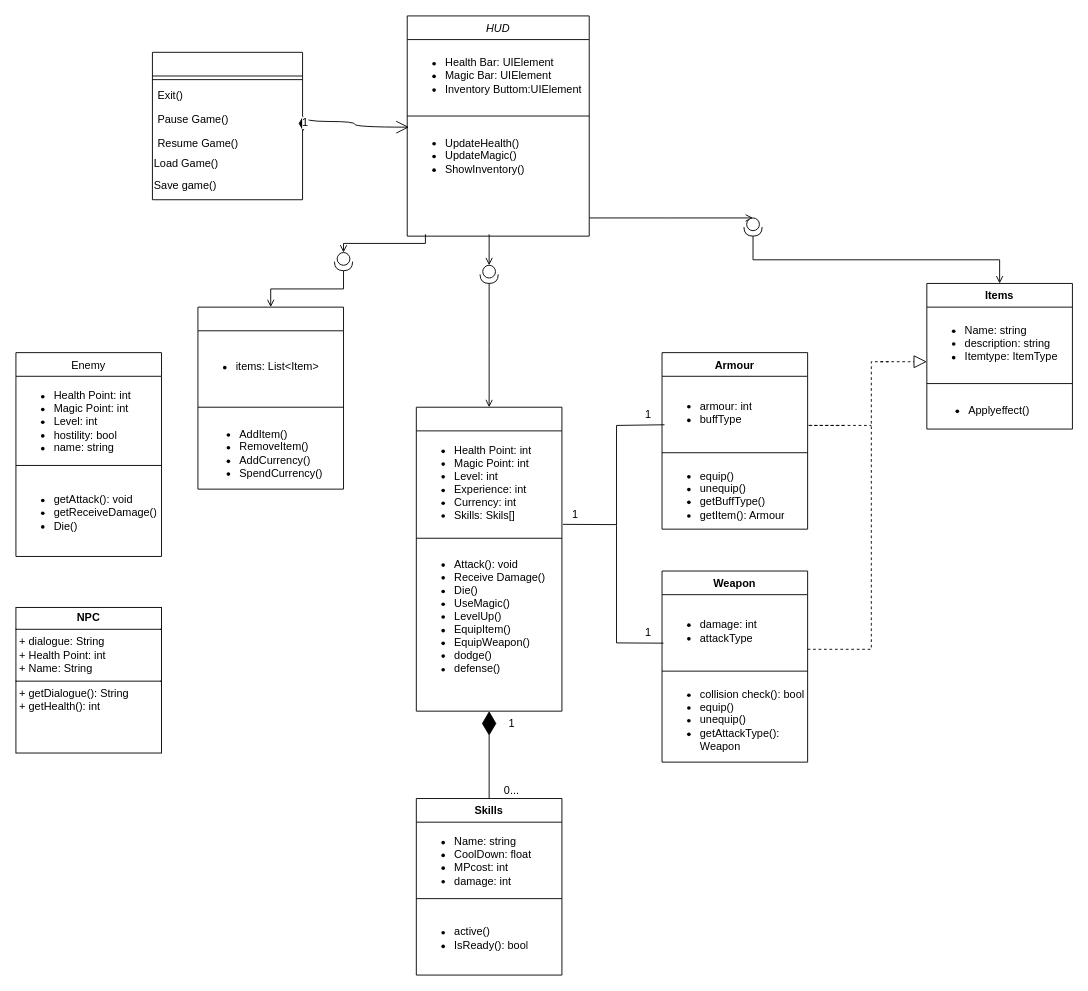
The diagram is 1088 pixels wide and 991 high, and some of its shapes have lost their labels. Each missing label, with the box of its shape:
Inventory: (197, 306, 344, 489)
Player: (415, 406, 562, 711)
Ui interface: (152, 51, 303, 200)
